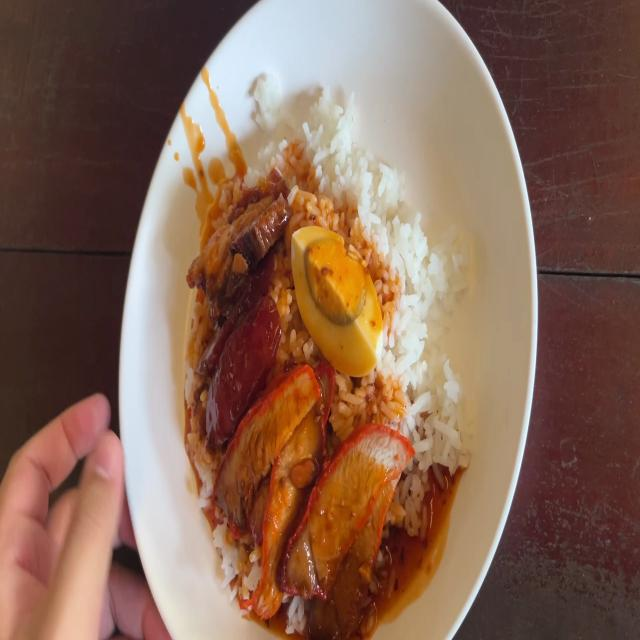01boiled_egg: (294, 226, 381, 379)
01chainese_sausage: (192, 287, 268, 438)
01crispy_pork: (187, 182, 283, 290)
01red_pork: (254, 373, 333, 593), (322, 436, 394, 596)
01red_pork_and_crispy_pork: (189, 128, 471, 601)
01rice: (382, 219, 470, 454), (275, 107, 419, 232)
